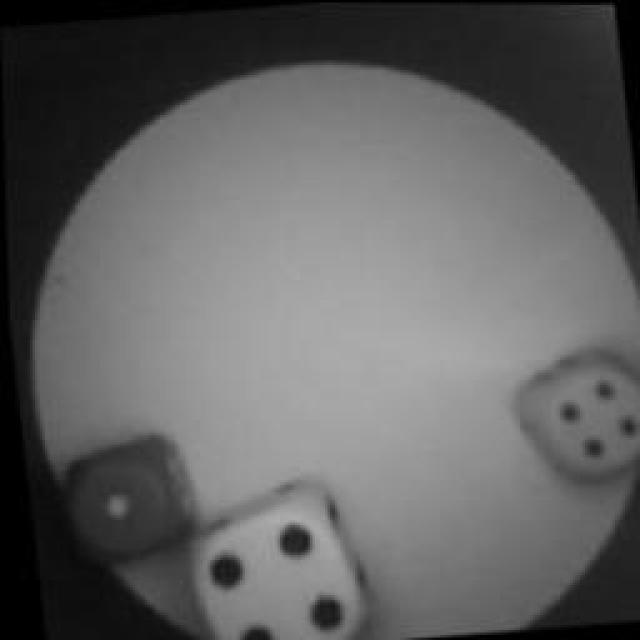dice_1: (54, 432, 196, 566)
dice_4: (168, 480, 384, 640), (510, 335, 640, 485)
